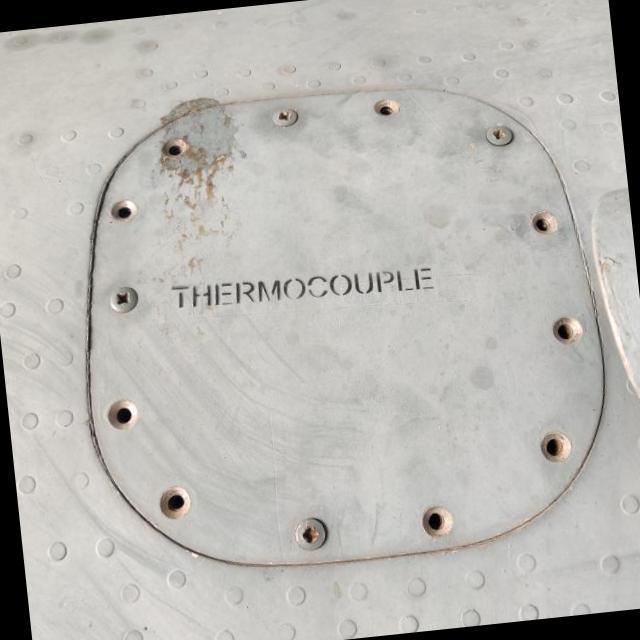Fastener Damage: (390, 471, 480, 565), (512, 398, 602, 488), (502, 180, 586, 261), (80, 377, 163, 453), (531, 290, 608, 367), (137, 460, 210, 538), (350, 72, 426, 142), (93, 178, 153, 244), (148, 114, 208, 175)
